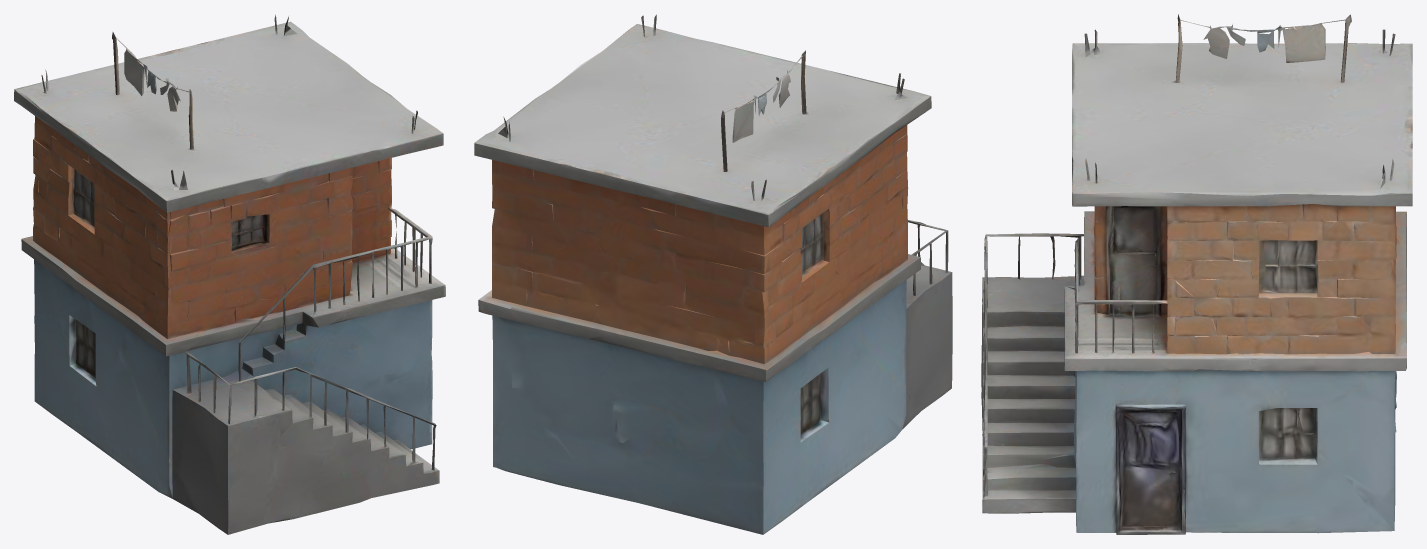
The model's file is favela_casa1.glb.
3 renders of one model, left to right at view 1: azimuth 30°, elevation 25°; view 2: azimuth 150°, elevation 25°; view 3: azimuth 270°, elevation 25°, orthographic. The views are drawn at different scales.
Visible parts, largest first — view 1: tripo_node_f0d05755-162e-4ab7-9c2d-4ab9e48786cd; view 2: tripo_node_f0d05755-162e-4ab7-9c2d-4ab9e48786cd; view 3: tripo_node_f0d05755-162e-4ab7-9c2d-4ab9e48786cd.
Part boxes in pixels (x1,y1,x2,y2): tripo_node_f0d05755-162e-4ab7-9c2d-4ab9e48786cd: (14, 14, 445, 534); tripo_node_f0d05755-162e-4ab7-9c2d-4ab9e48786cd: (474, 14, 952, 534); tripo_node_f0d05755-162e-4ab7-9c2d-4ab9e48786cd: (981, 14, 1412, 534).
Bounding box in the file's own units: 0.7826 × 0.9998 × 0.9489.
1 material, 1 textured.
